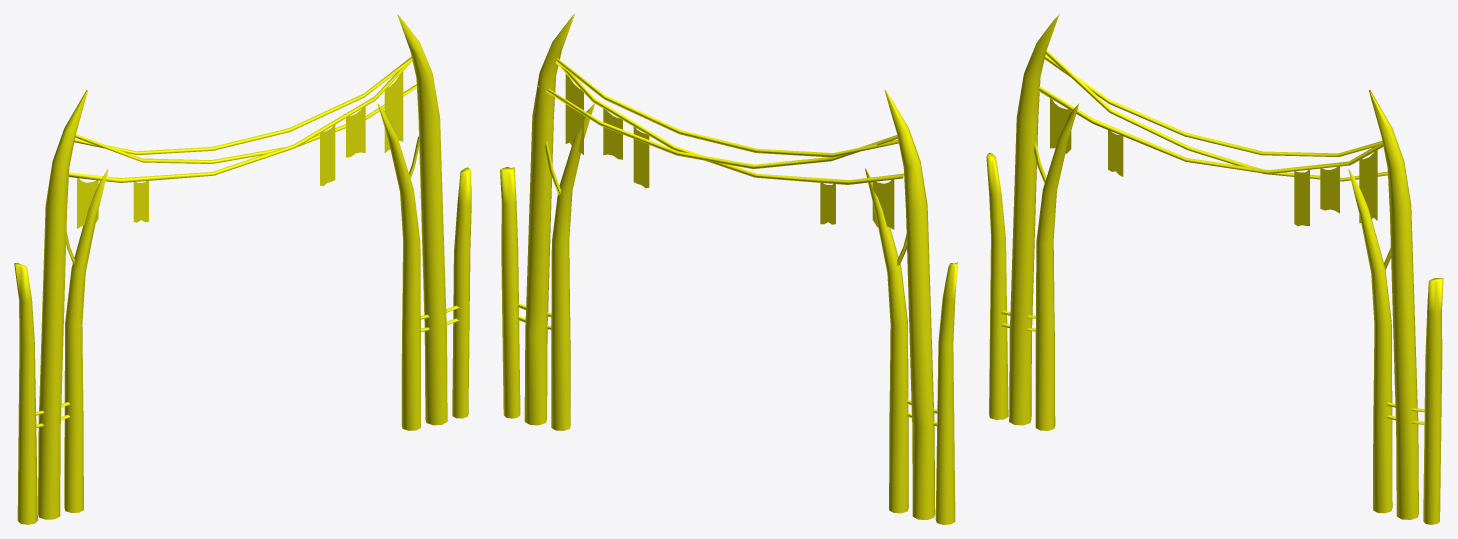
File: camp_redthief_gate_00.glb
3 views of the same model, side by side, from view 1: azimuth 30°, elevation 25°; view 2: azimuth 150°, elevation 25°; view 3: azimuth 330°, elevation 25° (orthographic).
Parts seen in each view (by area): view 1: camp_redthief_gate; view 2: camp_redthief_gate; view 3: camp_redthief_gate.
Part boxes in pixels (left/top/right/bottom): camp_redthief_gate: left=14, top=14, right=471, bottom=524; camp_redthief_gate: left=500, top=14, right=957, bottom=524; camp_redthief_gate: left=986, top=14, right=1443, bottom=524.
Size of the model in its own units: 18.25 by 15.96 by 0.8043.
Materials: 1 (1 with a texture image).
